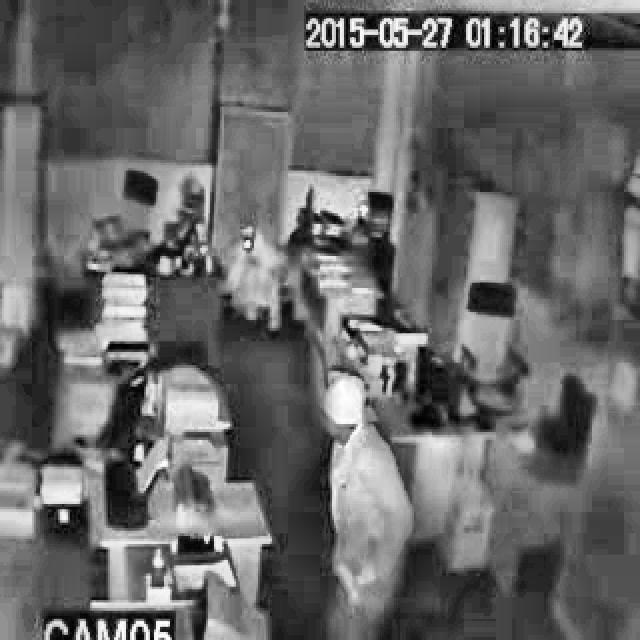burglary: (300, 358, 430, 640), (203, 190, 293, 348)
